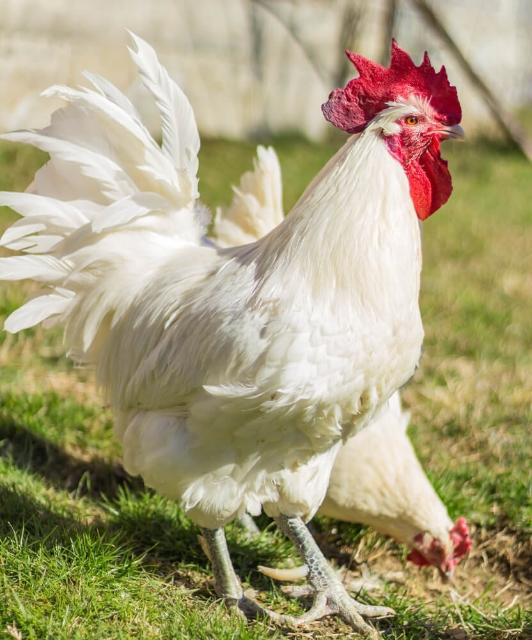Chicken: (0, 41, 467, 640), (312, 379, 476, 594)
